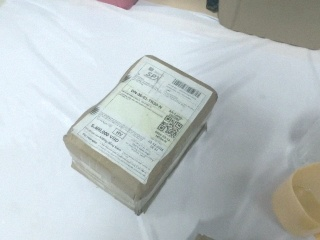box: (64, 56, 220, 217), (217, 1, 320, 51)
cup: (270, 161, 320, 240)
